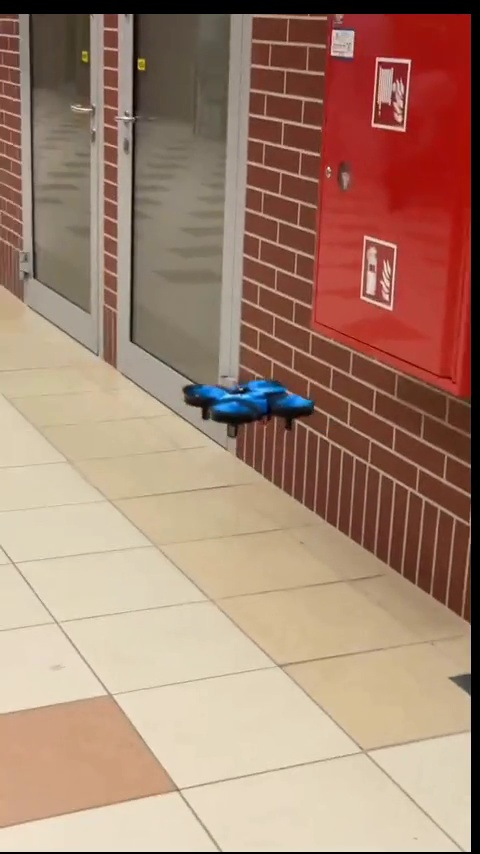drone: (180, 380, 319, 435)
